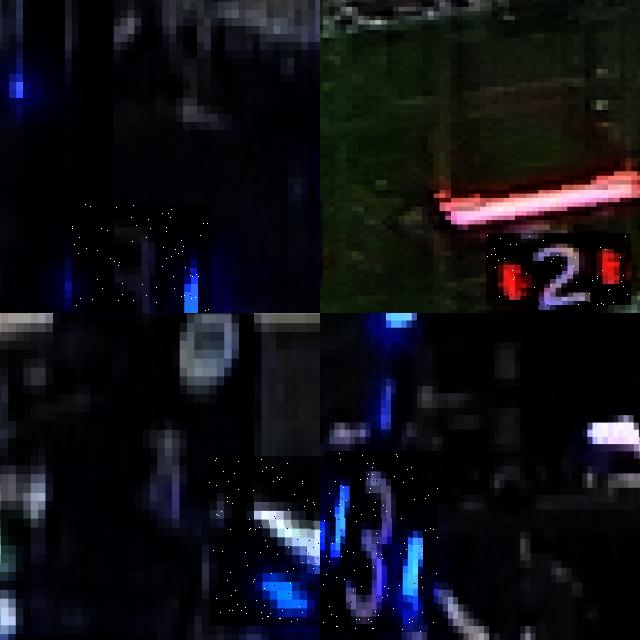B3: (320, 451, 437, 633), (72, 202, 211, 313)
B4: (209, 456, 320, 625)
R2: (486, 233, 631, 305)
